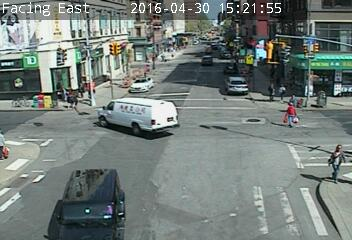neg: (140, 58, 153, 76), (156, 49, 167, 63)
pos: (320, 141, 351, 185), (279, 100, 303, 132), (264, 81, 280, 102), (66, 88, 81, 108), (275, 81, 289, 100)
